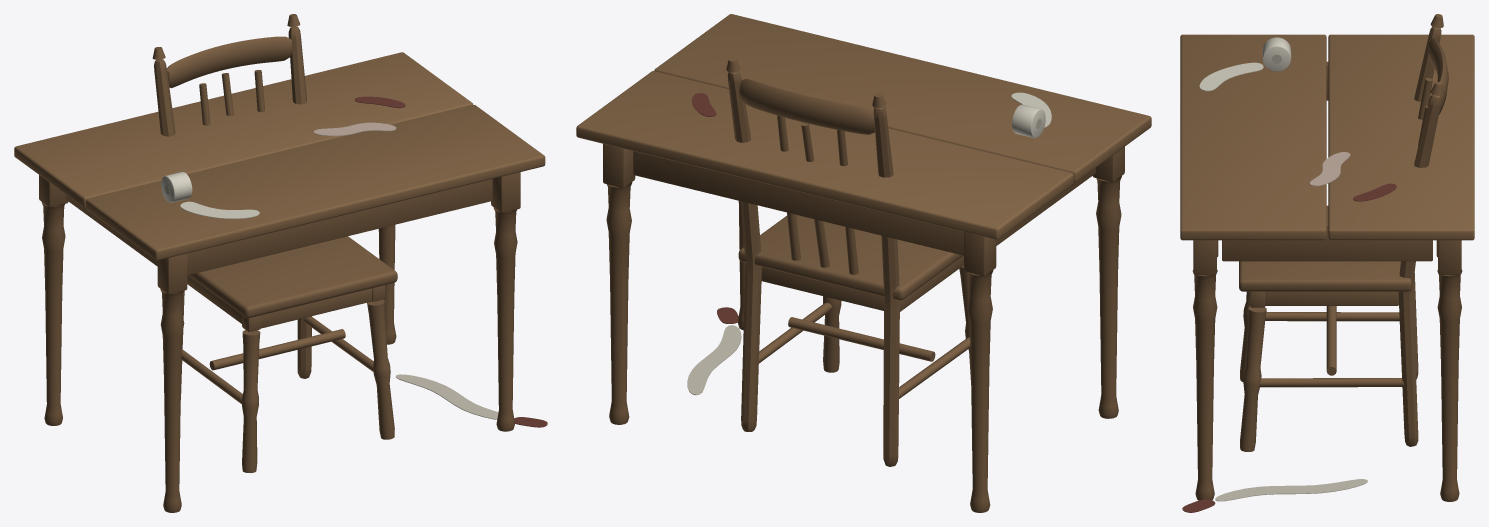
Rendered from friend.glb.
3 views of the same model, side by side, from view 1: azimuth 30°, elevation 25°; view 2: azimuth 150°, elevation 25°; view 3: azimuth 270°, elevation 25° (orthographic). The views are drawn at different scales.
Parts seen in each view (by area): view 1: FriendTable, FriendChair, FriendBandage, FriendFloorBandage; view 2: FriendTable, FriendChair, FriendBandage, FriendFloorBandage; view 3: FriendTable, FriendChair, FriendBandage, FriendFloorBandage.
Part boxes in pixels (bbox=[...]): FriendTable: bbox=[14, 52, 545, 512]; FriendChair: bbox=[152, 14, 397, 472]; FriendBandage: bbox=[161, 96, 405, 218]; FriendFloorBandage: bbox=[396, 374, 547, 427]; FriendTable: bbox=[576, 14, 1151, 512]; FriendChair: bbox=[726, 57, 971, 466]; FriendBandage: bbox=[692, 92, 1051, 138]; FriendFloorBandage: bbox=[687, 307, 741, 395]; FriendTable: bbox=[1180, 34, 1474, 501]; FriendChair: bbox=[1239, 14, 1448, 451]; FriendBandage: bbox=[1199, 37, 1396, 201]; FriendFloorBandage: bbox=[1182, 479, 1367, 512].
Size of the model in its own units: 1.12 by 0.9579 by 0.698.
